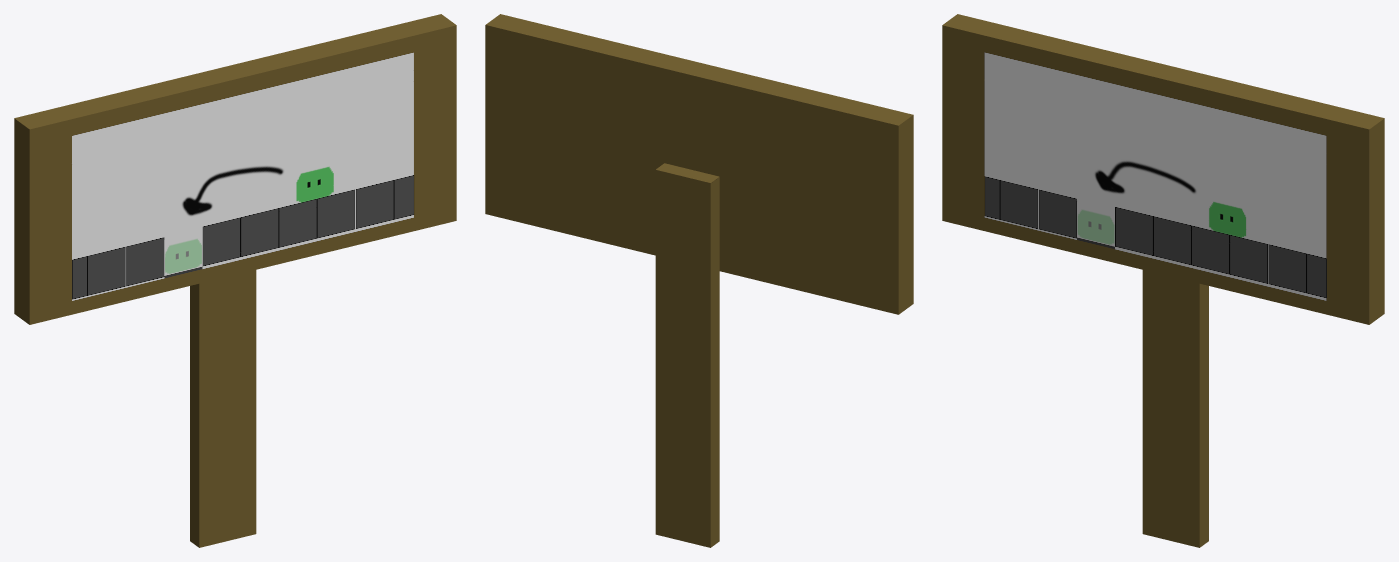
Rendered from Sign.fbx.
3 views of the same model, side by side, from view 1: azimuth 30°, elevation 25°; view 2: azimuth 150°, elevation 25°; view 3: azimuth 330°, elevation 25° (orthographic). The views are drawn at different scales.
Visible parts, largest first — view 1: 평면; view 2: 평면; view 3: 평면.
Boxes of the visible parts, x1=… form: 평면: x1=14, y1=14, x2=456, y2=547; 평면: x1=485, y1=14, x2=913, y2=547; 평면: x1=942, y1=14, x2=1384, y2=547.
Bounding box in the file's own units: 80 × 85 × 8.
1 material, 1 textured.
